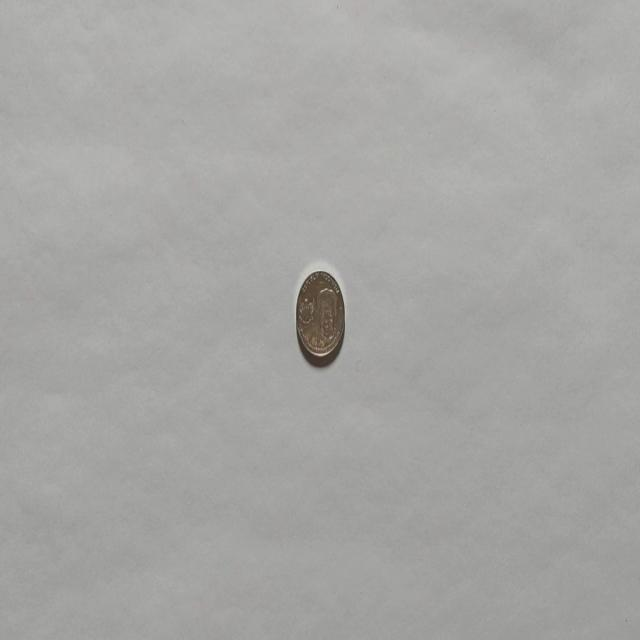seratus rupiah: (295, 268, 345, 366)
